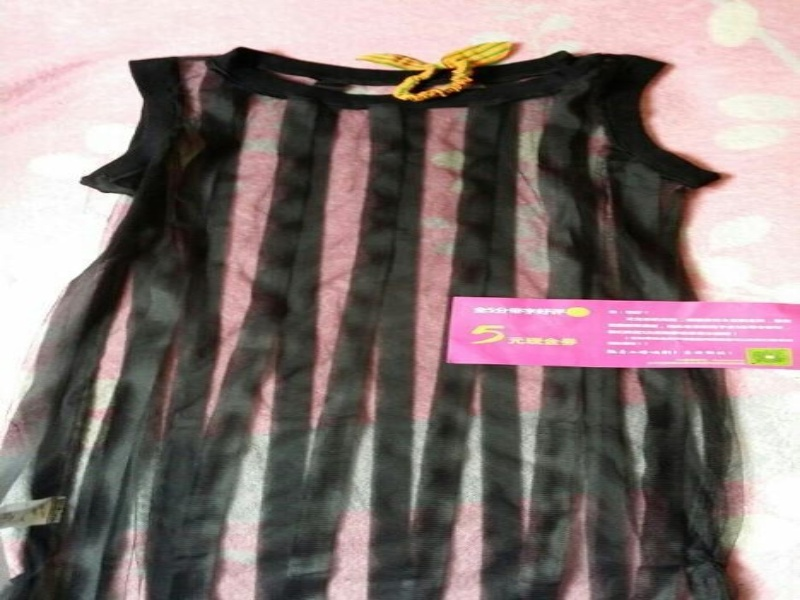vest_dress: (0, 45, 750, 599)
